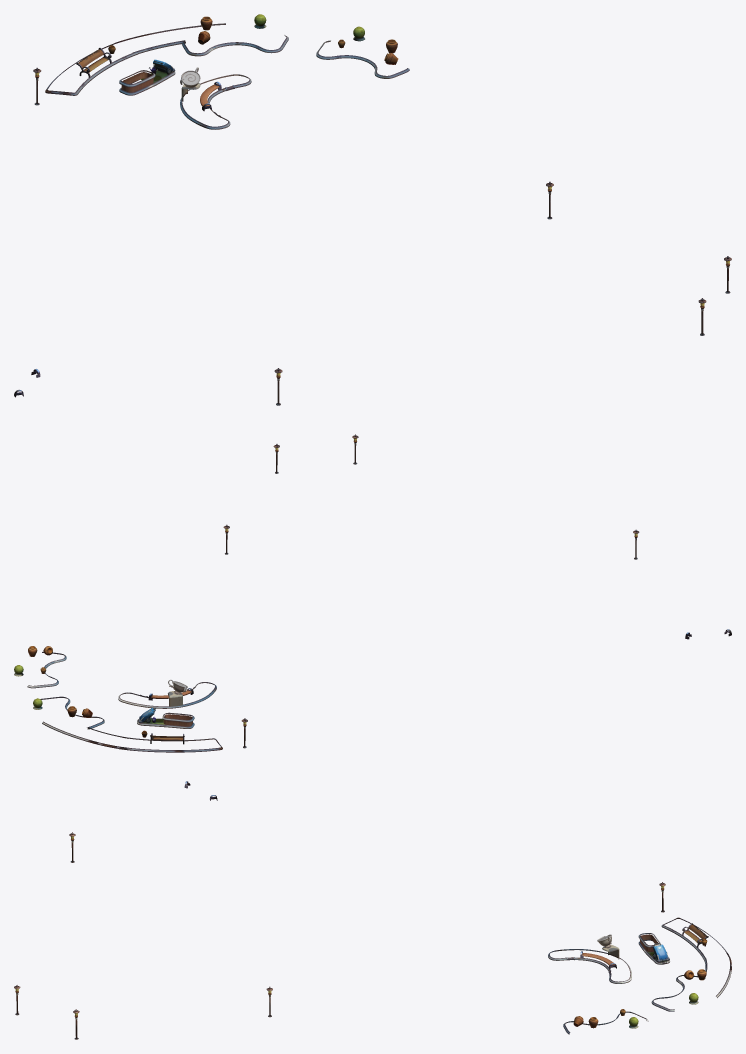
The model's file is pref_sm_garden_props_vray_003_lv2.fbx.
3 views of the same model, one above another, from view 1: azimuth 30°, elevation 25°; view 2: azimuth 150°, elevation 25°; view 3: azimuth 270°, elevation 25° (orthographic). The views are drawn at different scales.
Parts seen in each view (by area): view 1: pref_sm_garden_props_vray_003_lv2; view 2: pref_sm_garden_props_vray_003_lv2; view 3: pref_sm_garden_props_vray_003_lv2.
Boxes of the visible parts, <box> form: pref_sm_garden_props_vray_003_lv2: <box>14,14,731,405</box>; pref_sm_garden_props_vray_003_lv2: <box>14,434,731,752</box>; pref_sm_garden_props_vray_003_lv2: <box>14,781,731,1039</box>.
Bounding box in the file's own units: 81.64 × 4.47 × 97.76.
